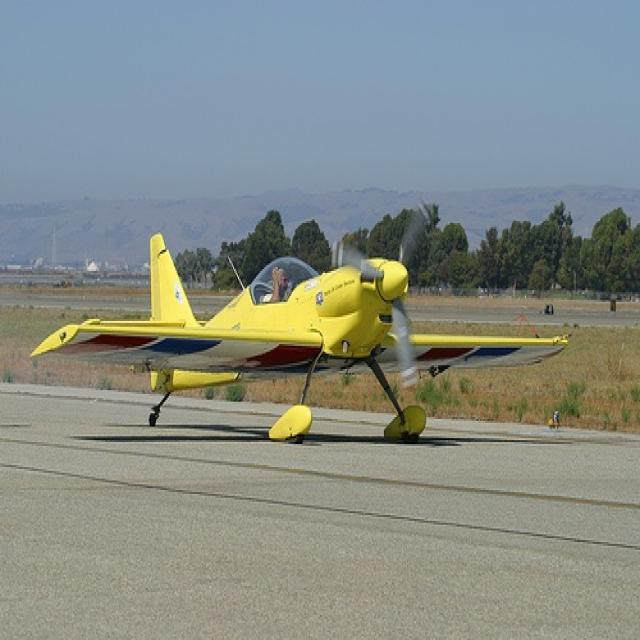aeroplane: (26, 227, 574, 444)
